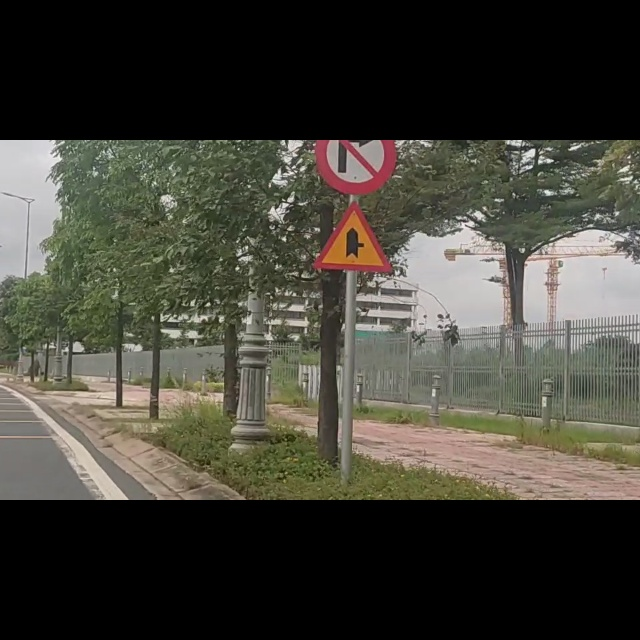bien_cam: (313, 104, 398, 239)
